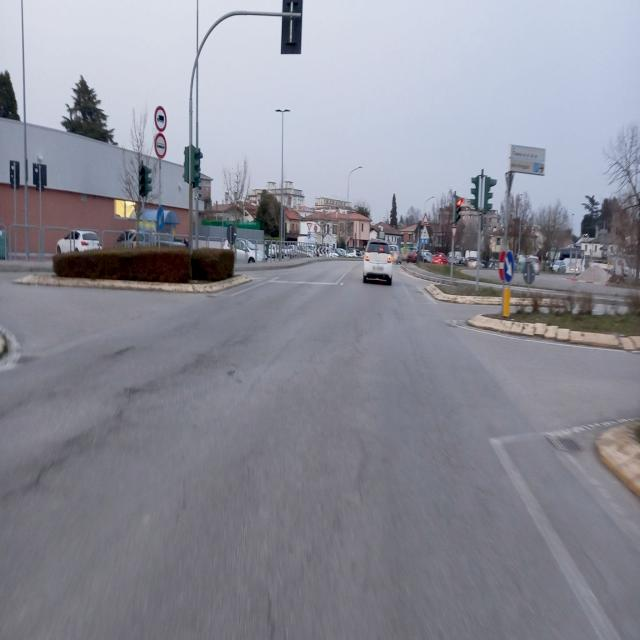car: (363, 239, 393, 285), (55, 228, 101, 254), (115, 228, 152, 248), (234, 239, 257, 263)
